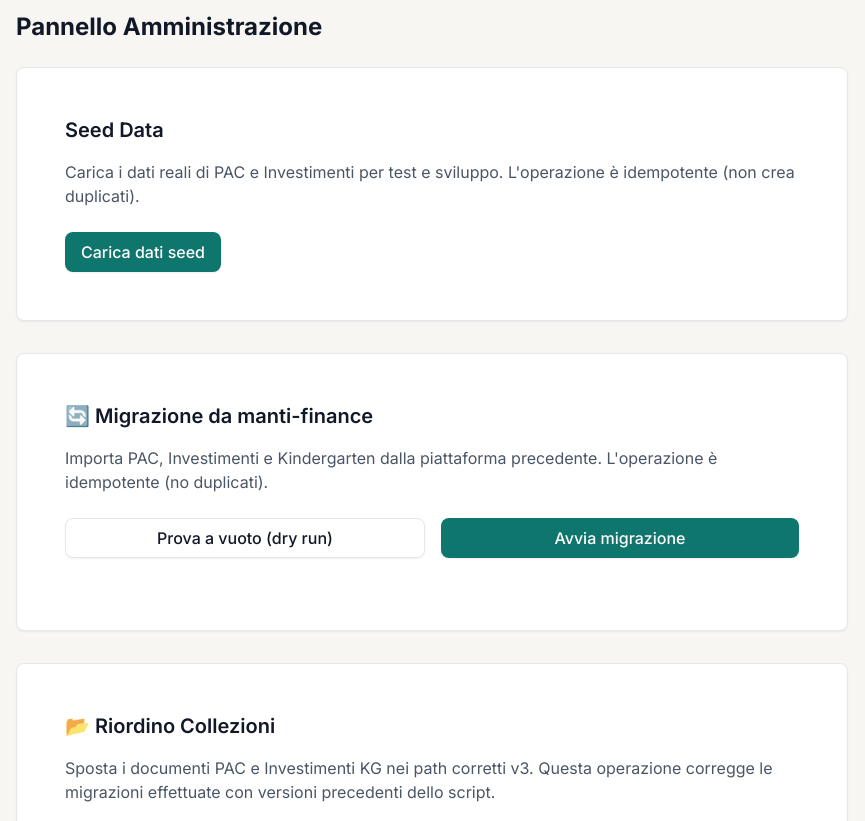
Test: AdminPage › shows error message on fetch failure
Click the button "Carica dati seed" at (143, 252), box [65, 232, 221, 272]
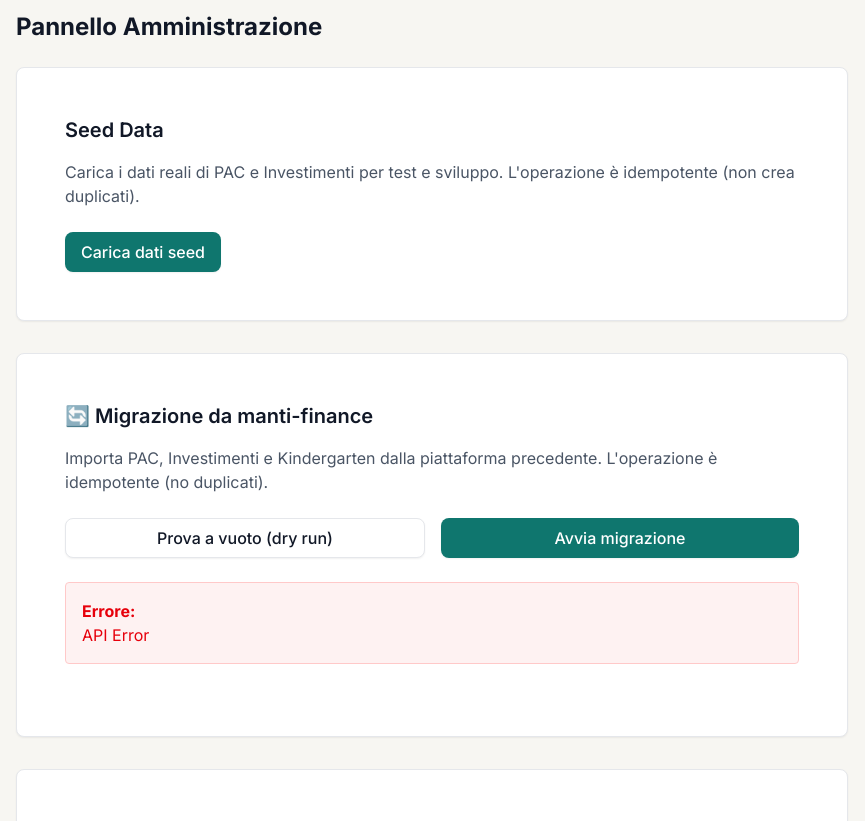
Now the text "API Error" is shown, box [82, 625, 149, 645]
